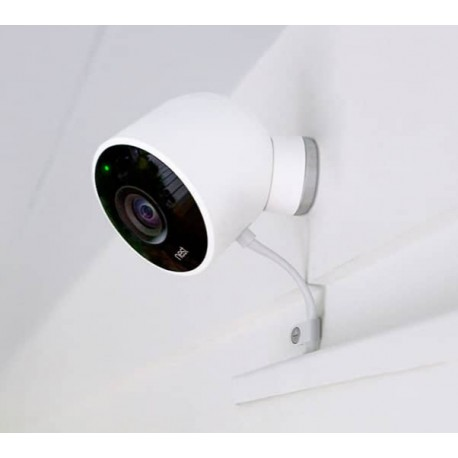Nest Cam: (87, 82, 297, 287)
